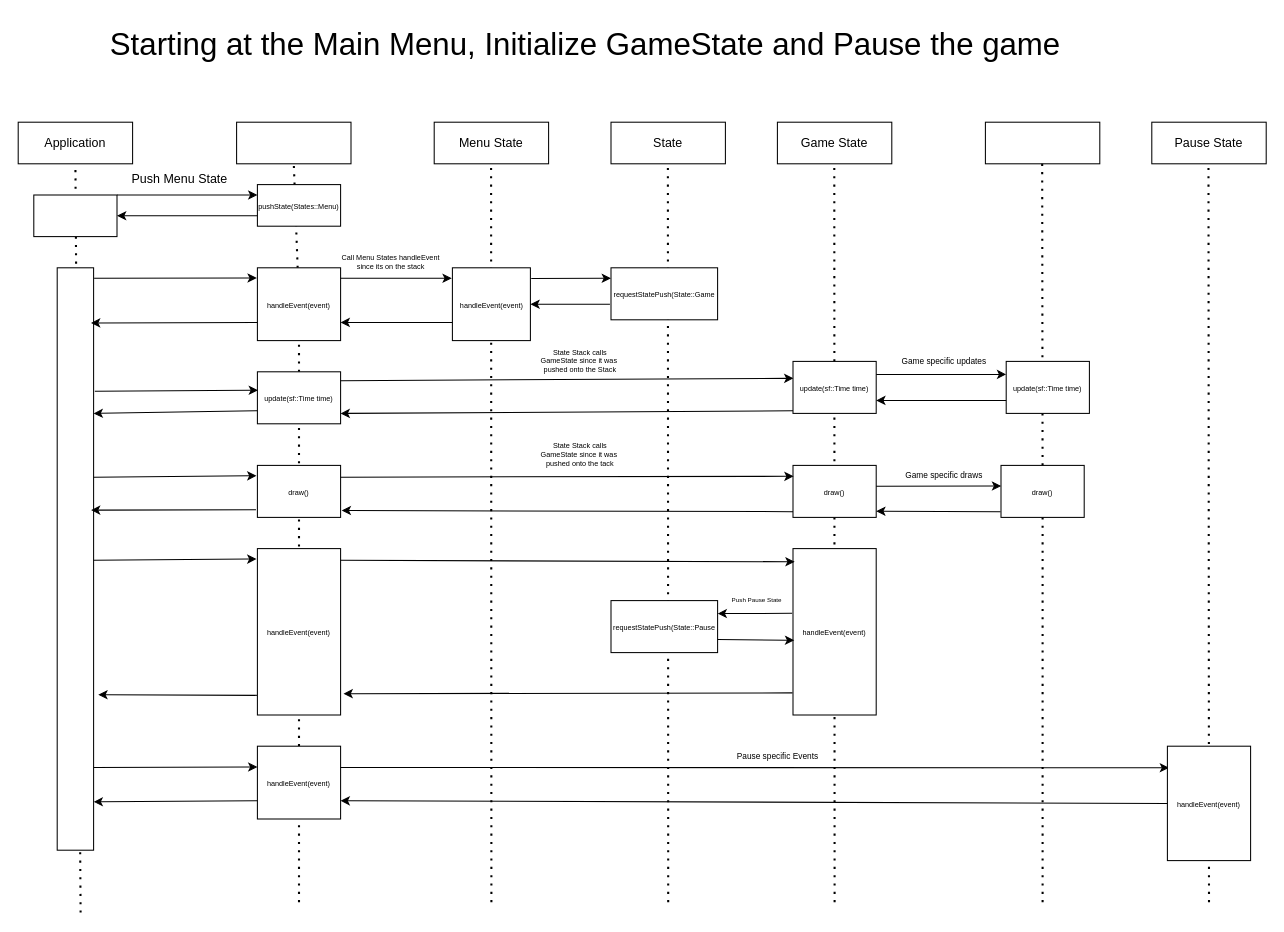
Image size: 1284x932. Some labels were removed from this diagram. Each missing label, with the centre of its shape:
"Constructor" belongs at pixel 75 215.
"run" belongs at pixel 75 558.
"State Stack" belongs at pixel 293 142.
"World" belongs at pixel 1042 142.
